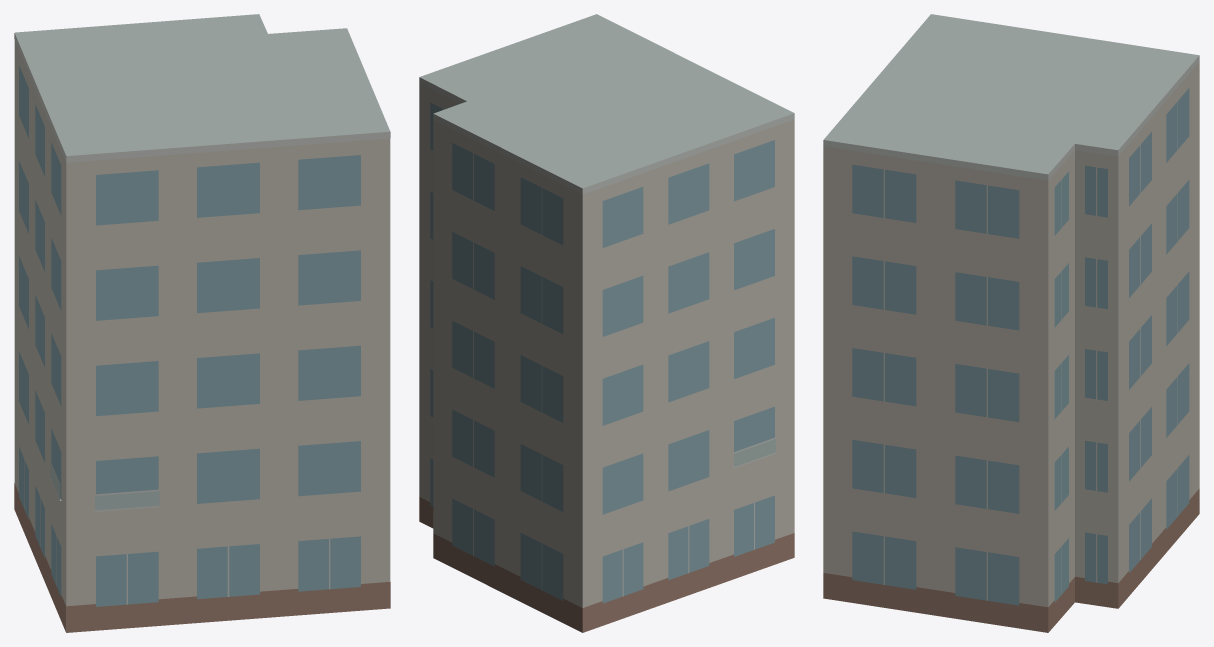
Rendered from survey-upis-32553233.glb.
3 views of the same model, side by side, from view 1: azimuth 30°, elevation 25°; view 2: azimuth 150°, elevation 25°; view 3: azimuth 270°, elevation 25° (orthographic). The views are drawn at different scales.
Parts seen in each view (by area): view 1: survey-upis-32553233.tmp; view 2: survey-upis-32553233.tmp; view 3: survey-upis-32553233.tmp.
Boxes of the visible parts, left/top/right/bottom form: survey-upis-32553233.tmp: left=14, top=14, right=390, bottom=632; survey-upis-32553233.tmp: left=419, top=14, right=794, bottom=632; survey-upis-32553233.tmp: left=823, top=14, right=1199, bottom=632.
Bounding box in the file's own units: 13.29 × 17.7 × 13.17.
